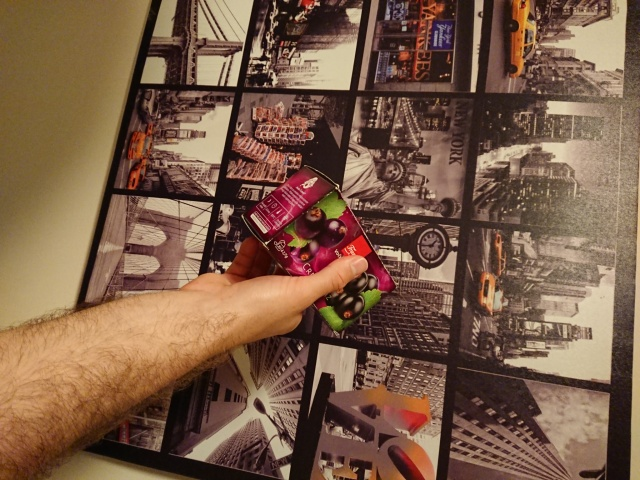Franck Black Currant Tea 60g: (238, 162, 401, 338)
